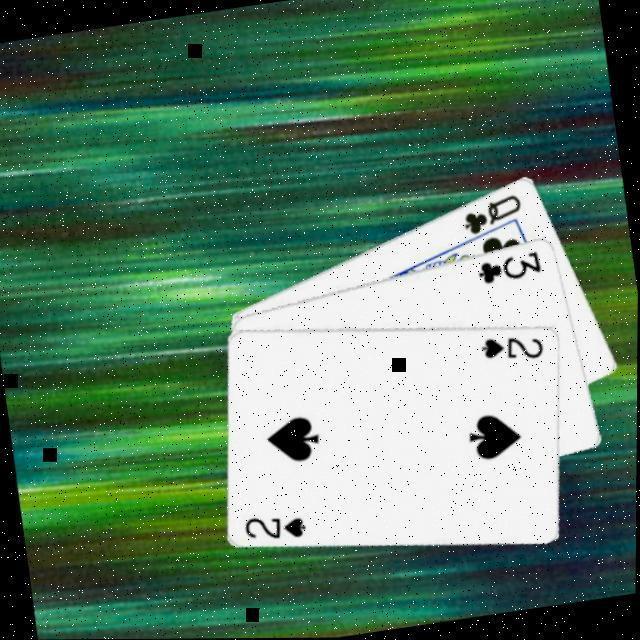2S: (478, 328, 550, 369), (242, 508, 314, 549)
3C: (474, 248, 548, 289)
QC: (458, 190, 529, 240)
